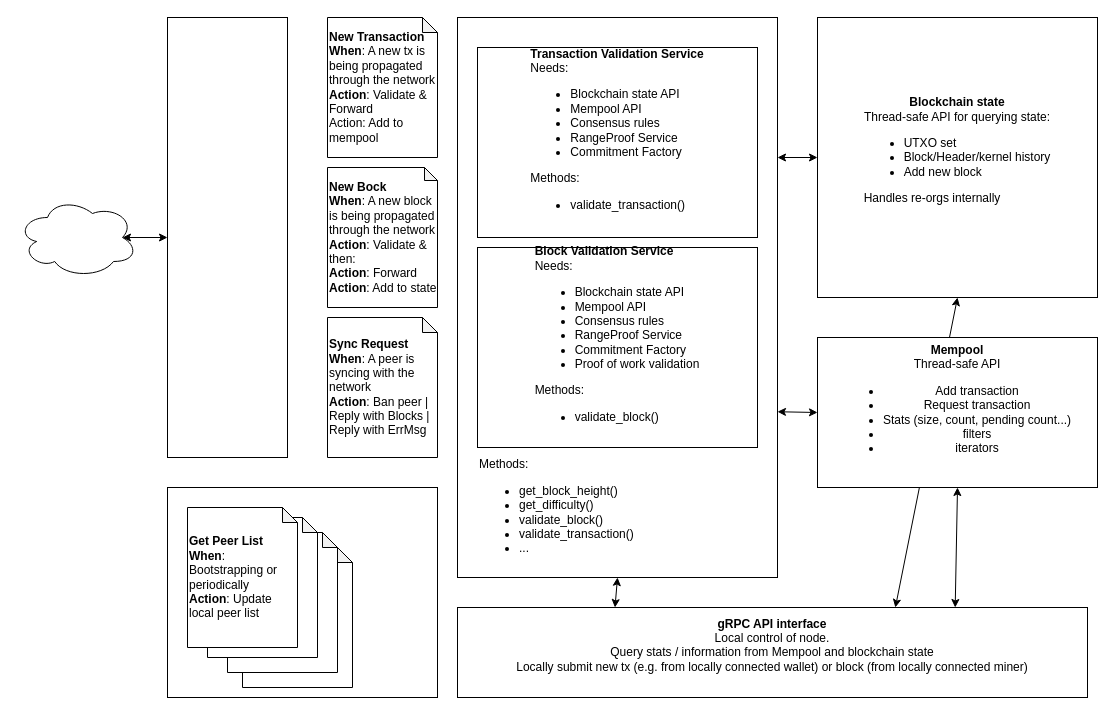
Some shapes in this 1115 by 715 pixel diagram are drawn without their labels. The shapes that lost their labels are listed below. From the top down, each one's box as (x1, y1, x2, y2) in pixels, then its label:
(166, 16, 288, 458): Comms
(456, 16, 778, 578): Base Node Service
(166, 486, 438, 698): DHT Service
